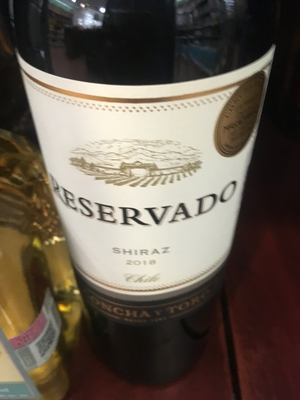reservado shiraz: (16, 25, 272, 400)
